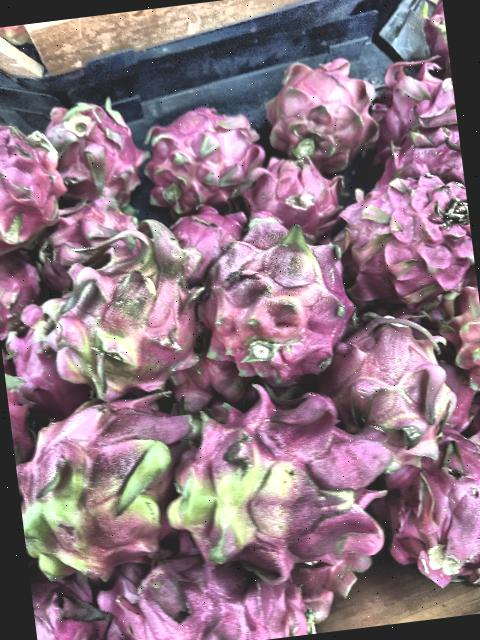buah-naga-belum-matang: (150, 366, 414, 594), (8, 378, 204, 585), (190, 202, 363, 396), (33, 227, 206, 394), (319, 316, 472, 456)
buah-naga-matang: (327, 146, 480, 325), (111, 538, 328, 640), (377, 423, 480, 584), (264, 51, 382, 176), (35, 92, 154, 208), (136, 100, 267, 204), (234, 144, 344, 246), (0, 99, 67, 239), (360, 51, 458, 138), (28, 196, 150, 264), (368, 118, 464, 190), (158, 200, 250, 264), (443, 283, 480, 389)
